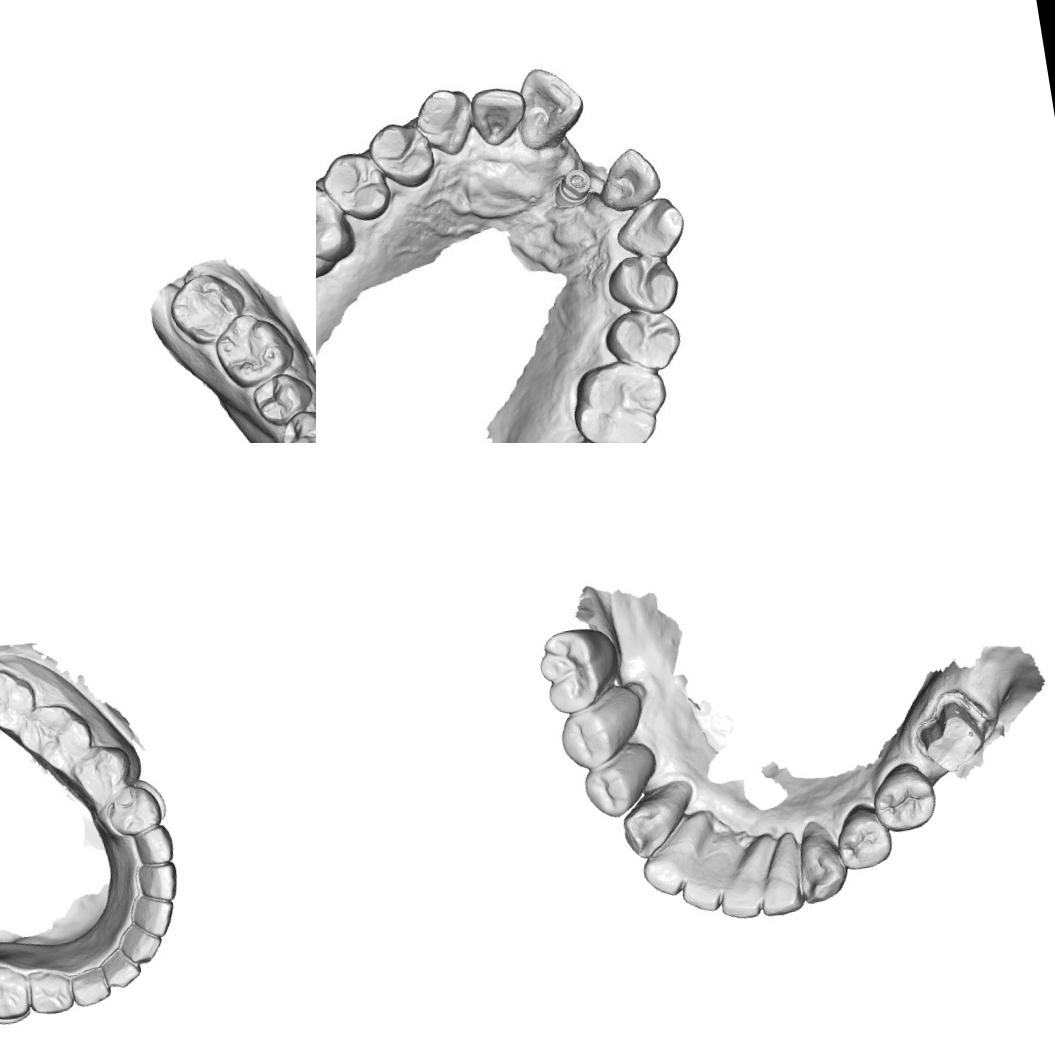canine: (613, 791, 694, 863), (788, 816, 850, 910), (610, 193, 688, 264), (410, 82, 478, 162), (130, 822, 178, 868), (67, 964, 113, 1010)
crown: (910, 687, 996, 779)
implant: (543, 161, 601, 216)
incisor: (514, 64, 585, 150), (636, 822, 707, 900), (710, 842, 772, 924), (601, 140, 660, 216), (752, 837, 806, 918), (676, 848, 735, 918), (469, 82, 528, 150), (126, 887, 179, 942), (115, 918, 166, 968), (132, 856, 182, 906), (98, 943, 144, 992)
molar: (572, 358, 675, 443), (210, 307, 299, 393), (531, 624, 612, 718), (164, 268, 252, 351), (13, 697, 98, 778), (316, 173, 359, 286), (0, 663, 41, 738)
premolar: (597, 303, 689, 379), (362, 110, 439, 194), (868, 757, 942, 836), (322, 148, 398, 224), (553, 696, 630, 771), (604, 248, 684, 320), (830, 799, 897, 875), (66, 740, 136, 808), (580, 752, 646, 822), (248, 367, 316, 430), (102, 782, 166, 841), (23, 963, 76, 1018), (0, 959, 34, 1026), (276, 405, 316, 443)
